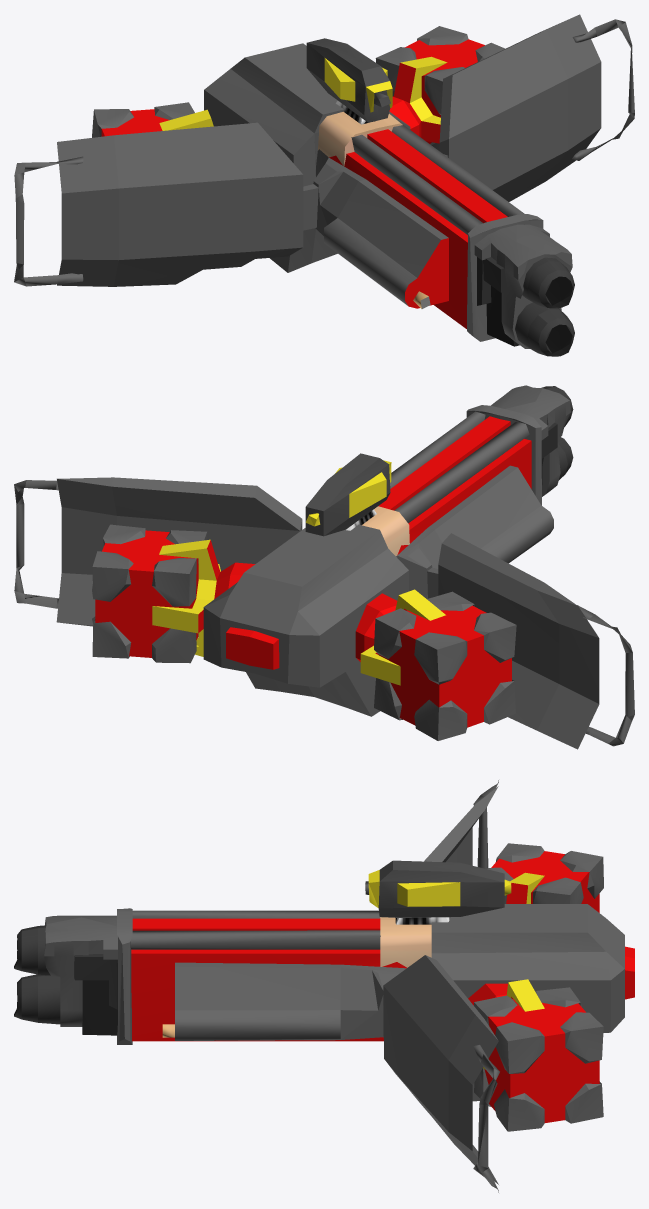
File: gun-POLY_REDUCED.fbx
3 renders of one model, top to bottom at view 1: azimuth 30°, elevation 25°; view 2: azimuth 150°, elevation 25°; view 3: azimuth 270°, elevation 25°, orthographic.
Visible parts, largest first — view 1: gun_POLY_REDUCED; view 2: gun_POLY_REDUCED; view 3: gun_POLY_REDUCED.
Part boxes in pixels (x1,y1,x2,y2): gun_POLY_REDUCED: (14,14,634,356); gun_POLY_REDUCED: (14,385,634,749); gun_POLY_REDUCED: (14,780,634,1192).
Bounding box in the file's own units: 408 × 132 × 355.
